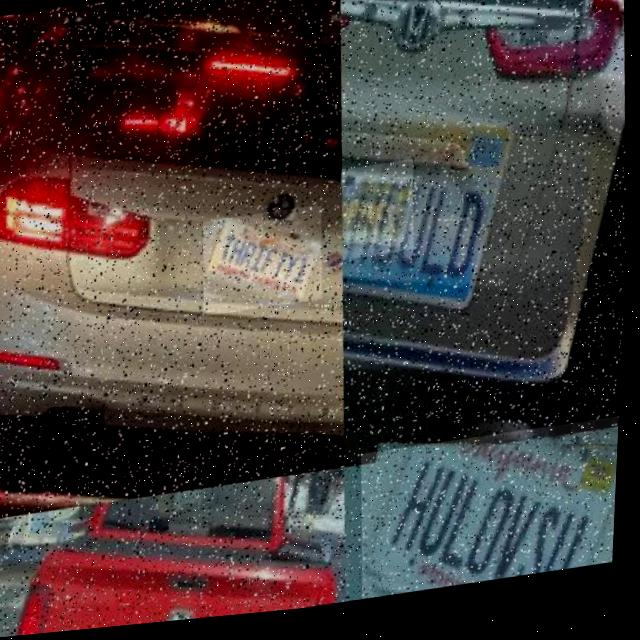LicensePlate: (361, 429, 623, 608), (207, 223, 324, 308), (341, 167, 420, 268)
